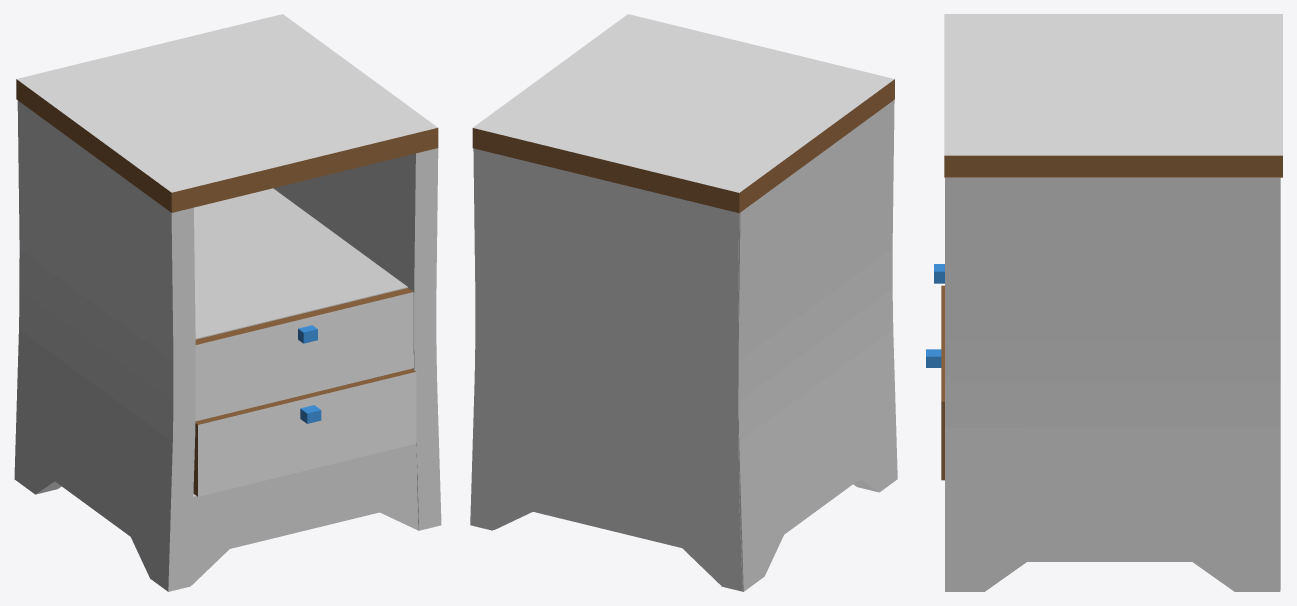
The model's file is bedside_table_tier6.fbx.
3 renders of one model, left to right at view 1: azimuth 30°, elevation 25°; view 2: azimuth 150°, elevation 25°; view 3: azimuth 270°, elevation 25°, orthographic. The views are drawn at different scales.
Visible parts, largest first — view 1: Cube.010; view 2: Cube.010; view 3: Cube.010.
Part boxes in pixels (box(x1,y1,x2,y2)): Cube.010: box(14, 14, 441, 591); Cube.010: box(470, 14, 897, 591); Cube.010: box(926, 14, 1282, 591).
Bounding box in the file's own units: 76.44 × 107 × 79.39.
